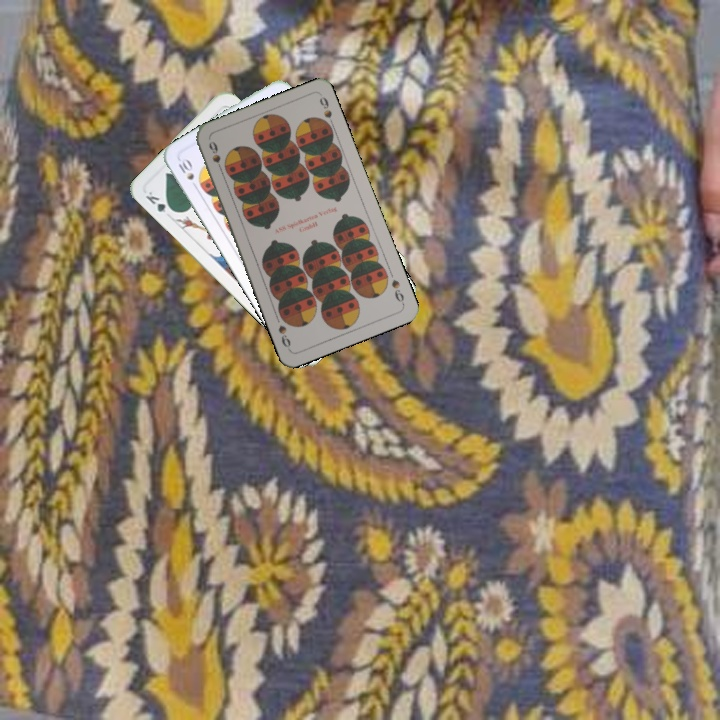GK: (141, 187, 177, 217)
S10: (172, 154, 200, 192)
S9: (205, 137, 226, 176), (387, 275, 407, 307)
